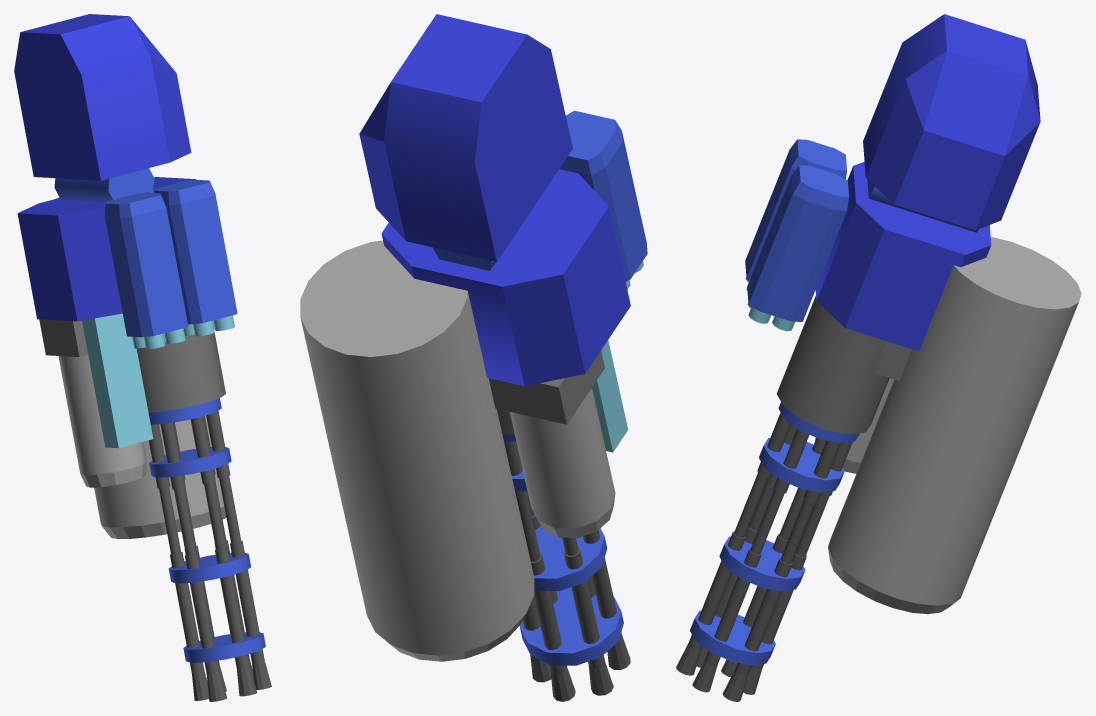
Rendered from Mech_blue_minigun.fbx.
3 views of the same model, side by side, from view 1: azimuth 30°, elevation 25°; view 2: azimuth 150°, elevation 25°; view 3: azimuth 270°, elevation 25° (orthographic). The views are drawn at different scales.
Parts seen in each view (by area): view 1: La2.001; view 2: La2.001; view 3: La2.001.
Part boxes in pixels (x1=…): La2.001: x1=14, y1=14, x2=271, y2=701; La2.001: x1=300, y1=14, x2=647, y2=701; La2.001: x1=676, y1=14, x2=1081, y2=701.
Size of the model in its own units: 0.3847 by 1.26 by 0.7141.
